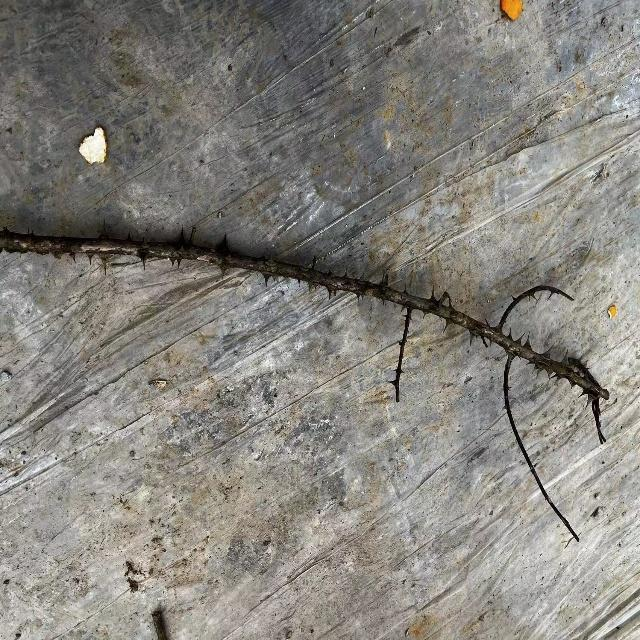branch: (0, 228, 607, 415)
